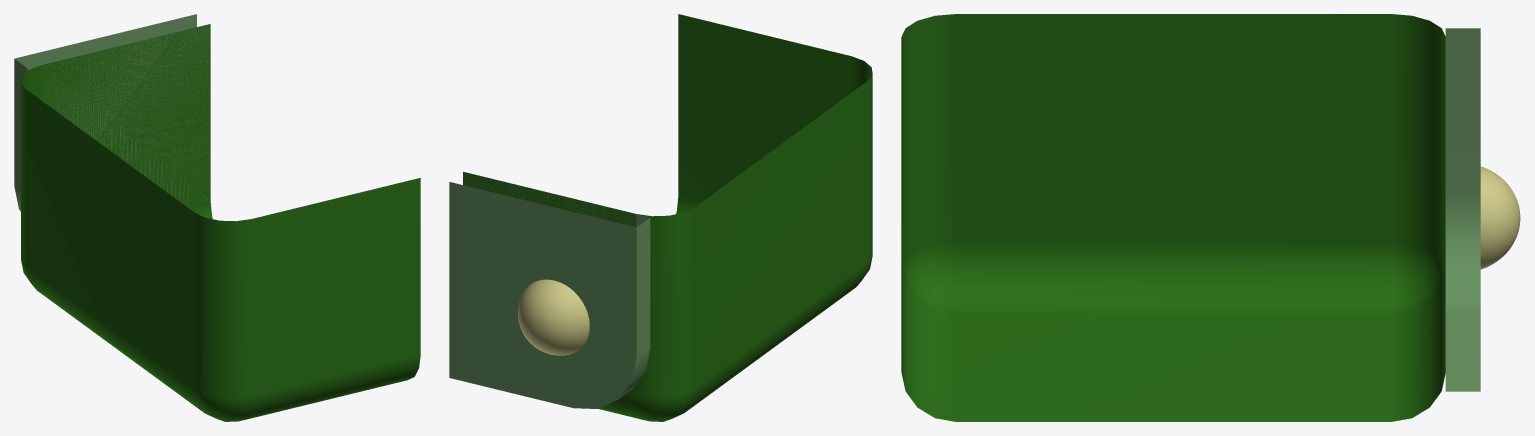
File: a2_1_RD_block.fbx
3 views of the same model, side by side, from view 1: azimuth 30°, elevation 25°; view 2: azimuth 150°, elevation 25°; view 3: azimuth 270°, elevation 25° (orthographic). The views are drawn at different scales.
Parts seen in each view (by area): view 1: polySurface225; view 2: polySurface225; view 3: polySurface225.
Boxes of the visible parts, x1,y1,x2,y2 form: polySurface225: (14,14,420,421); polySurface225: (449,14,872,421); polySurface225: (901,14,1520,421).
Bounding box in the file's own units: 1 × 1 × 2.02.
